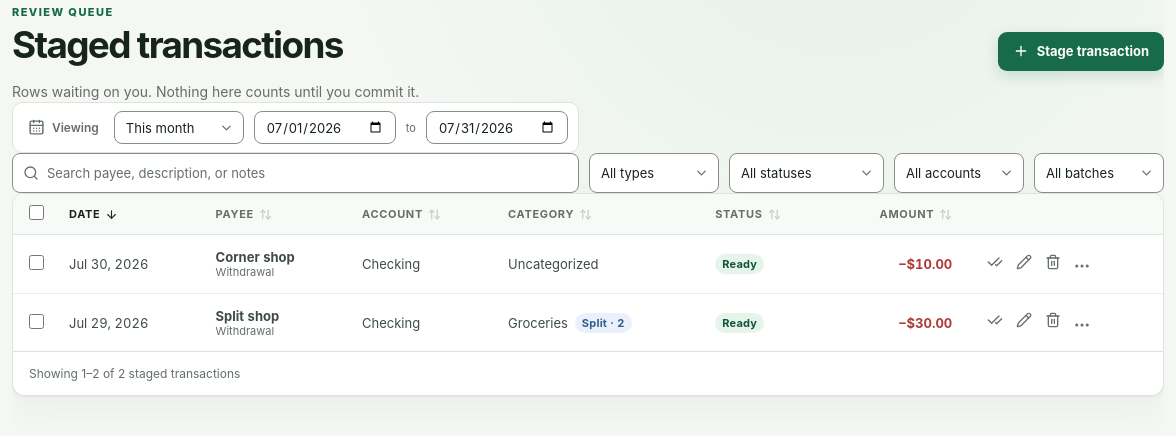
Scenario: editing staged fields in place › writes nothing when the value did not change
Click the button with aria-label "edit the payee of Corner shop" at (255, 257), box [212,248,299,266]
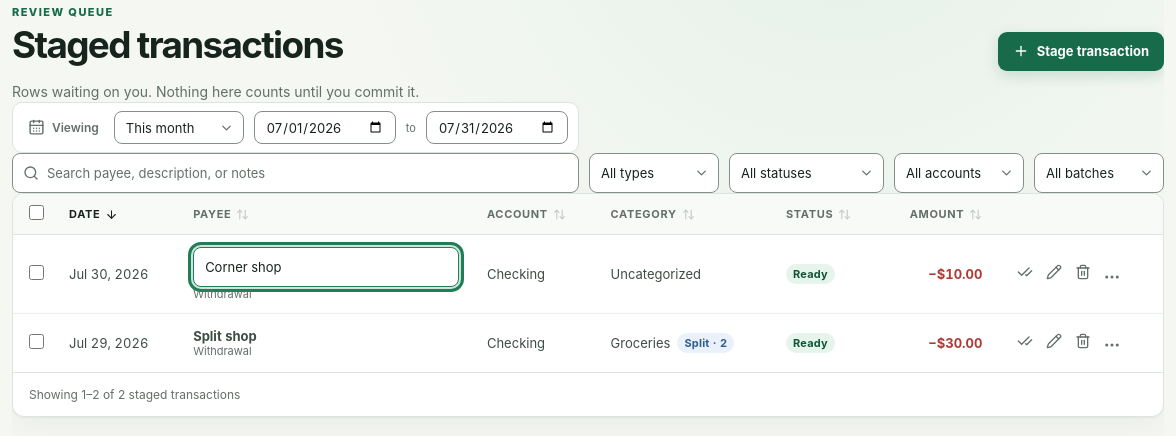
Leave the field with placeholder "Merchant, employer, person…", box [193,247,459,287]
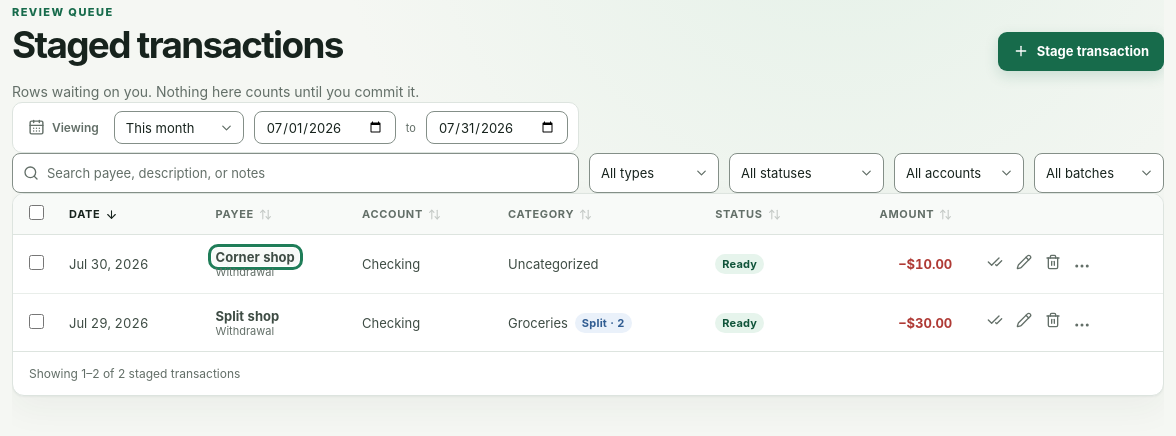
Expected: the button with aria-label "edit the payee of Corner shop" is shown, [212,248,299,266]
